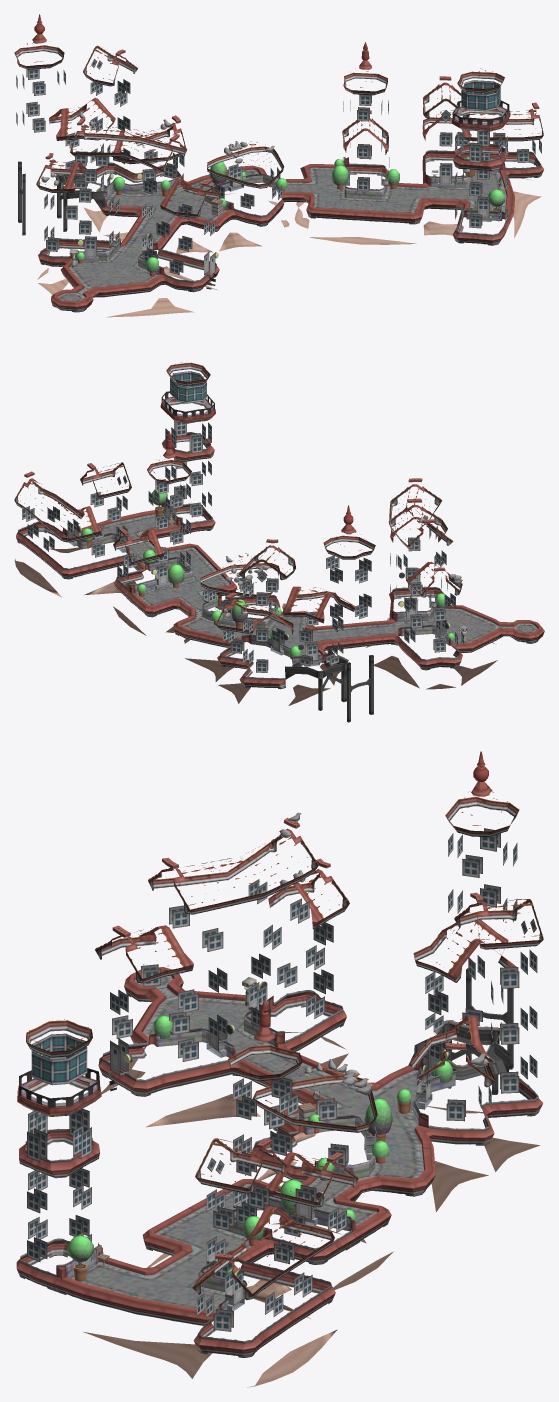
The model's file is island.fbx.
The picture shows the model from 3 angles, top to bottom: view 1: azimuth 30°, elevation 25°; view 2: azimuth 150°, elevation 25°; view 3: azimuth 270°, elevation 25°; orthographic projection. The views are drawn at different scales.
Parts seen in each view (by area): view 1: gameset; view 2: gameset; view 3: gameset.
Part boxes in pixels (bbox=[...]): gameset: bbox=[14, 14, 543, 317]; gameset: bbox=[14, 362, 544, 722]; gameset: bbox=[16, 751, 543, 1387].
Size of the model in its own units: 1456 by 580 by 859.
